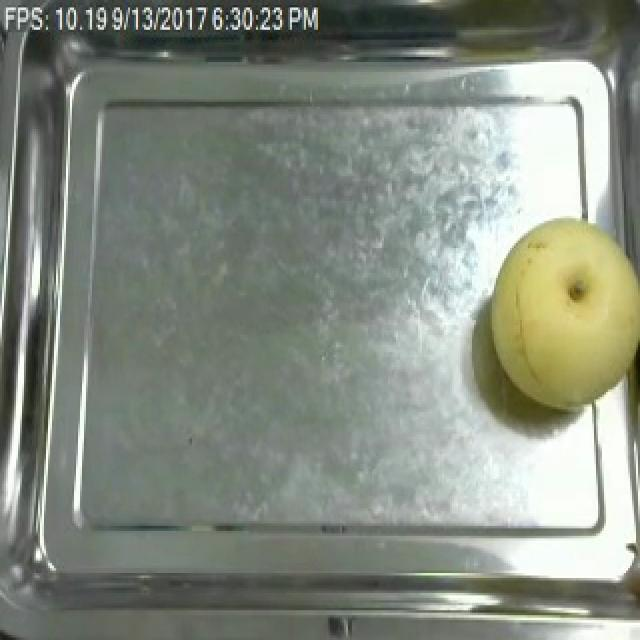Fruit: (480, 206, 640, 417)
